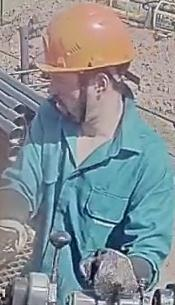gloves: (76, 246, 158, 305)
helmet: (34, 1, 136, 73)
vest: (0, 98, 173, 298)
